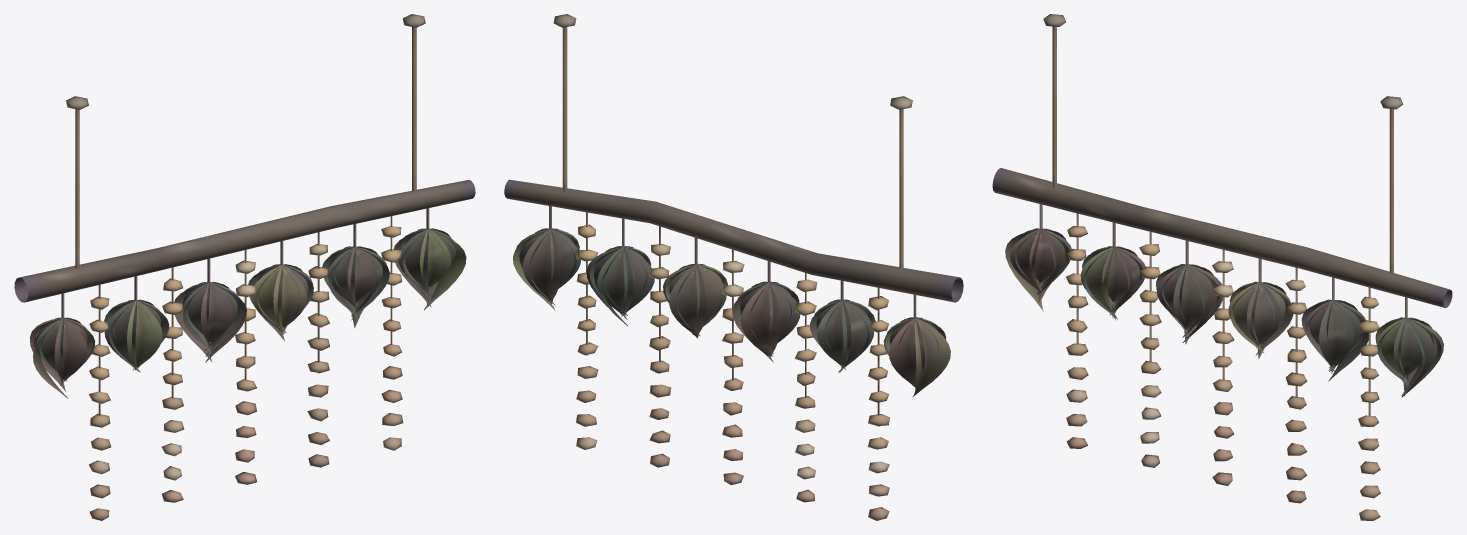
Rendered from kurutma_askisi.glb.
3 renders of one model, left to right at view 1: azimuth 30°, elevation 25°; view 2: azimuth 150°, elevation 25°; view 3: azimuth 330°, elevation 25°, orthographic.
Visible parts, largest first — view 1: kurutma_askisi_LOD0; view 2: kurutma_askisi_LOD0; view 3: kurutma_askisi_LOD0.
Part boxes in pixels (left/top/right/bottom): kurutma_askisi_LOD0: left=14, top=14, right=475, bottom=520; kurutma_askisi_LOD0: left=504, top=14, right=963, bottom=520; kurutma_askisi_LOD0: left=992, top=14, right=1452, bottom=520.
Size of what is drawn, in the model's own units: 1.6 by 1.45 by 0.2196.
